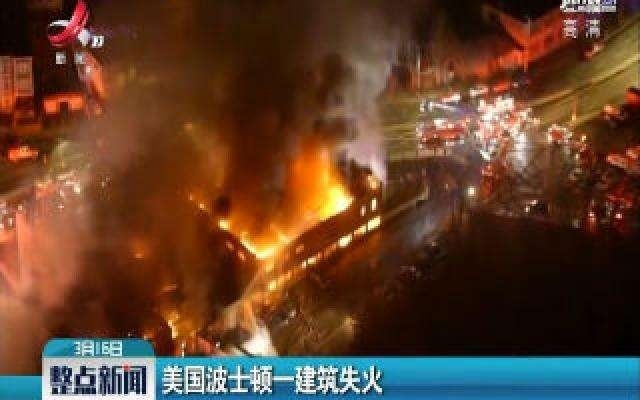fire: (217, 167, 378, 278)
